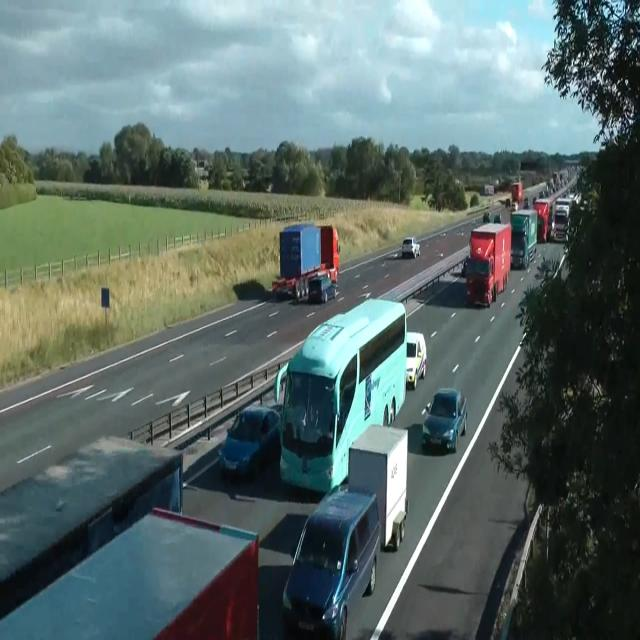bus: (218, 402, 282, 480), (422, 387, 468, 453), (406, 331, 426, 389), (308, 275, 336, 303), (273, 360, 289, 404), (402, 236, 420, 258), (461, 256, 467, 276)
car: (274, 297, 408, 493)
jeep: (281, 486, 381, 638)
minibus: (0, 506, 260, 639), (348, 423, 408, 551), (271, 222, 340, 303), (466, 221, 512, 307), (510, 208, 538, 269), (552, 196, 573, 241), (533, 197, 553, 242), (511, 181, 523, 209), (484, 183, 494, 195)
